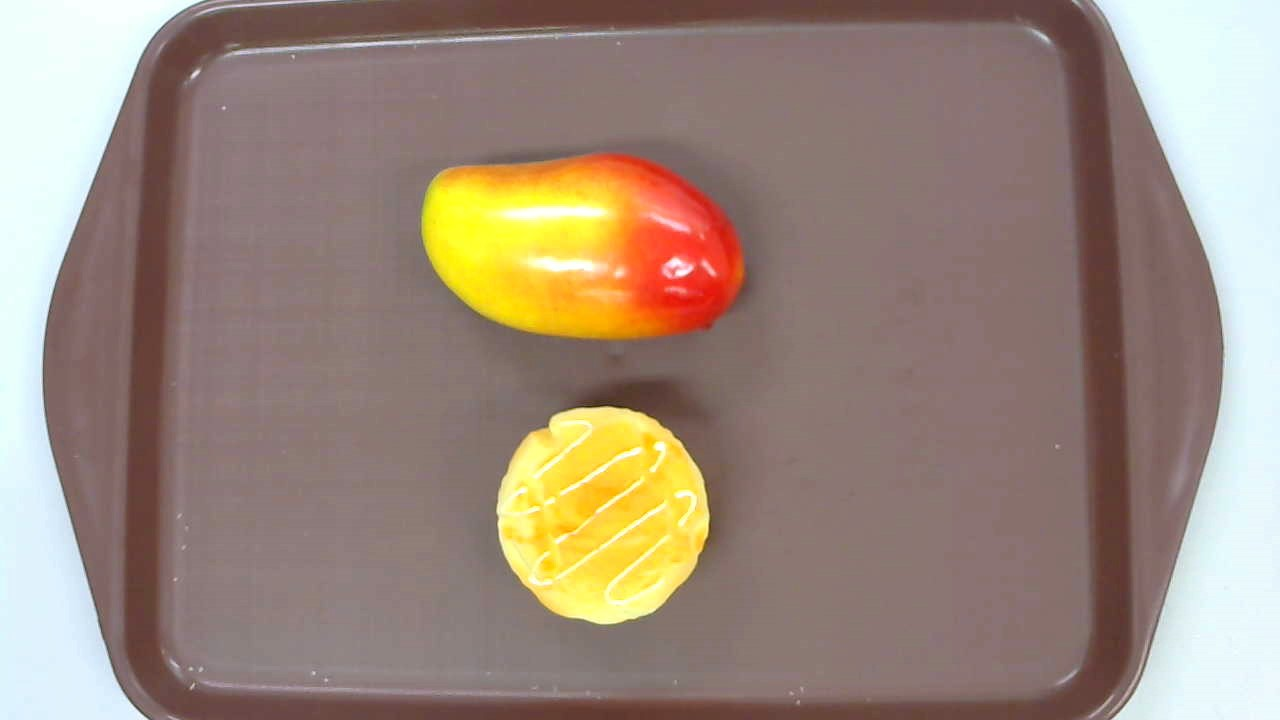cupcake: (495, 405, 710, 625)
red mango: (421, 152, 747, 341)
